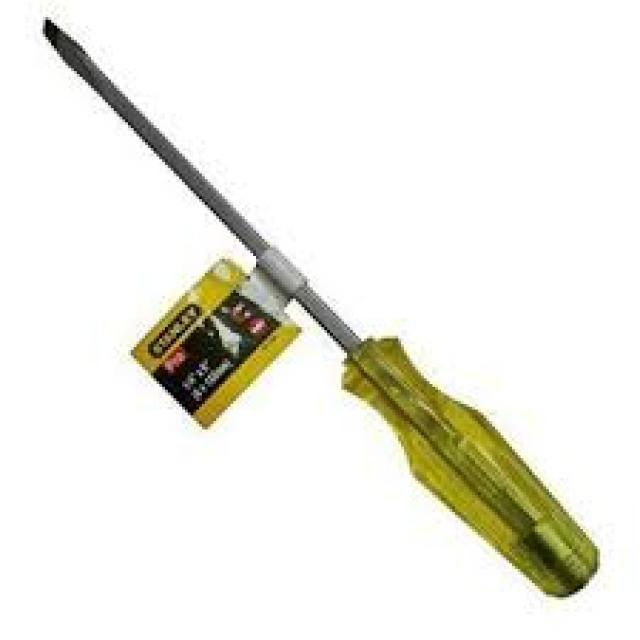screwdriver: (38, 12, 604, 602)
